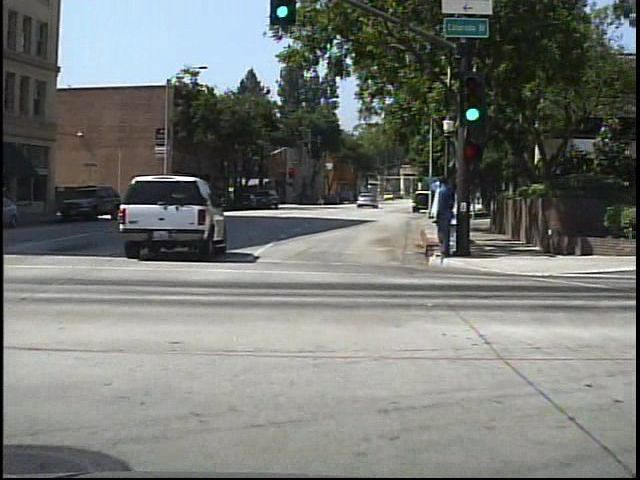person: (430, 172, 457, 260), (423, 178, 447, 262), (315, 193, 326, 208)
